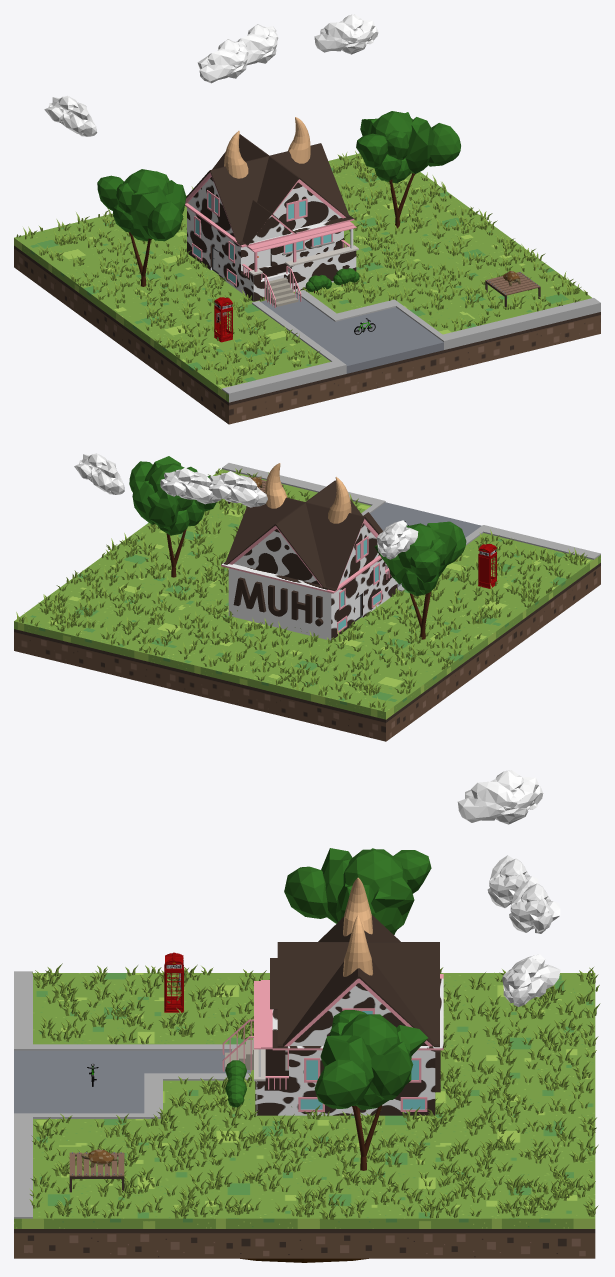
3 views of the same model, one above another, from view 1: azimuth 30°, elevation 25°; view 2: azimuth 150°, elevation 25°; view 3: azimuth 270°, elevation 25° (orthographic). The views are drawn at different scales.
Parts seen in each view (by area): view 1: Cube.006, Cube.1242, Circle.012_Grass_0.192, Cube.007, tree, tree.001, OBJRANDOM_PHONEBOOTH, Cube.009; view 2: Cube.006, Cube.1242, Circle.012_Grass_0.192, Cube.007, tree.001, tree, OBJRANDOM_PHONEBOOTH; view 3: Cube.006, Circle.012_Grass_0.192, Cube.1242, tree, Cube.007, tree.001, Cube.009, OBJRANDOM_PHONEBOOTH.
Part boxes in pixels (bbox=[...]): Cube.006: bbox=[14, 153, 600, 424]; Cube.1242: bbox=[185, 117, 358, 307]; Circle.012_Grass_0.192: bbox=[16, 151, 587, 386]; Cube.007: bbox=[44, 14, 378, 136]; tree: bbox=[356, 111, 460, 228]; tree.001: bbox=[97, 169, 186, 286]; OBJRANDOM_PHONEBOOTH: bbox=[214, 297, 232, 342]; Cube.009: bbox=[485, 272, 540, 306]; Cube.006: bbox=[14, 463, 600, 741]; Cube.1242: bbox=[221, 463, 397, 640]; Circle.012_Grass_0.192: bbox=[16, 468, 587, 711]; Cube.007: bbox=[74, 453, 418, 559]; tree.001: bbox=[374, 521, 466, 639]; tree: bbox=[129, 456, 216, 577]; OBJRANDOM_PHONEBOOTH: bbox=[478, 544, 497, 588]; Cube.006: bbox=[14, 971, 595, 1258]; Circle.012_Grass_0.192: bbox=[29, 963, 600, 1219]; Cube.1242: bbox=[222, 877, 443, 1115]; tree: bbox=[314, 1010, 427, 1170]; Cube.007: bbox=[457, 770, 560, 1006]; tree.001: bbox=[284, 848, 431, 934]; Cube.009: bbox=[69, 1152, 124, 1192]; OBJRANDOM_PHONEBOOTH: bbox=[164, 952, 183, 1012].
Bounding box in the file's own units: 4071 × 2242 × 4040.
47 materials, 3 textured.
